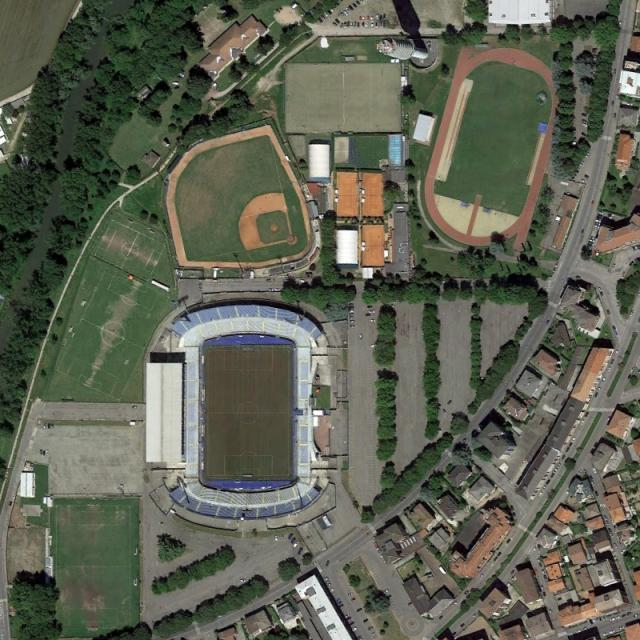vehicle: (323, 11, 330, 18), (334, 18, 341, 24), (298, 547, 303, 555), (370, 342, 378, 347), (287, 534, 293, 540), (383, 588, 389, 594), (348, 5, 354, 11), (293, 541, 298, 548), (178, 73, 185, 78), (321, 14, 326, 21), (343, 10, 348, 17), (50, 422, 54, 430), (291, 537, 296, 543), (348, 592, 353, 598), (352, 627, 358, 632), (318, 17, 323, 23), (352, 2, 357, 8), (602, 632, 608, 637), (131, 405, 138, 409), (359, 334, 363, 341), (368, 310, 375, 314), (366, 305, 373, 309), (370, 22, 374, 29), (370, 15, 374, 22), (362, 15, 366, 22), (618, 626, 625, 630), (534, 568, 538, 575), (614, 542, 618, 549), (339, 11, 344, 16), (355, 1, 360, 6), (479, 574, 484, 579), (471, 613, 476, 618), (610, 617, 615, 622), (350, 598, 356, 602), (356, 608, 362, 612), (368, 626, 374, 630), (330, 587, 334, 593), (42, 450, 46, 456), (370, 318, 376, 322), (365, 313, 371, 317), (298, 279, 306, 282), (172, 82, 178, 86), (332, 22, 338, 26), (343, 21, 346, 29), (346, 20, 350, 26), (382, 21, 386, 27), (452, 602, 458, 606), (615, 616, 621, 620), (540, 584, 544, 590), (239, 579, 246, 582), (47, 422, 50, 429), (267, 288, 274, 291), (365, 22, 368, 29), (363, 618, 368, 622), (326, 583, 330, 588), (346, 7, 350, 12), (378, 22, 382, 27), (610, 630, 615, 634), (43, 423, 46, 429), (349, 320, 355, 323), (274, 288, 280, 291), (340, 22, 343, 28), (350, 21, 353, 27), (375, 22, 378, 28), (324, 578, 328, 582), (46, 450, 49, 455), (349, 316, 354, 319), (353, 22, 356, 27), (375, 15, 378, 20), (40, 449, 42, 454)
